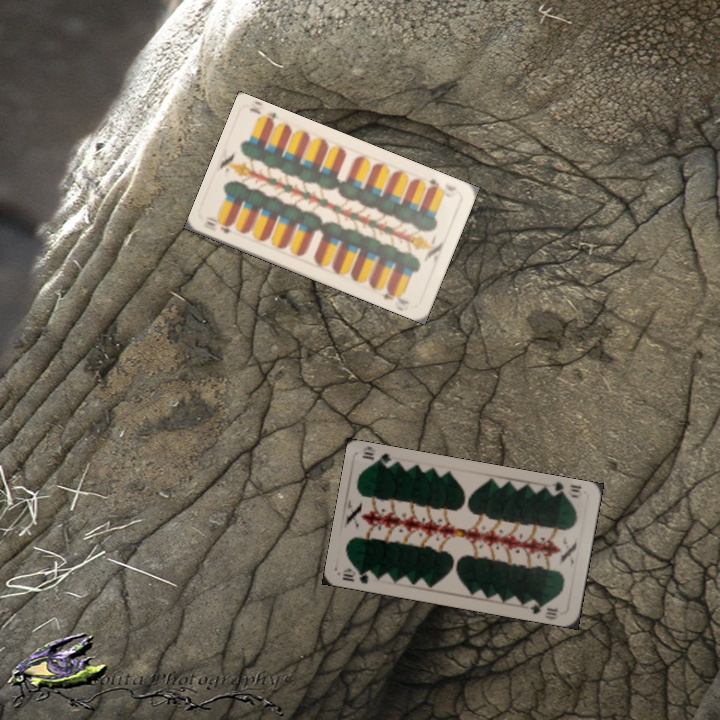E10: (202, 213, 233, 236), (424, 175, 448, 194)
G10: (545, 478, 584, 501), (338, 564, 371, 586)
